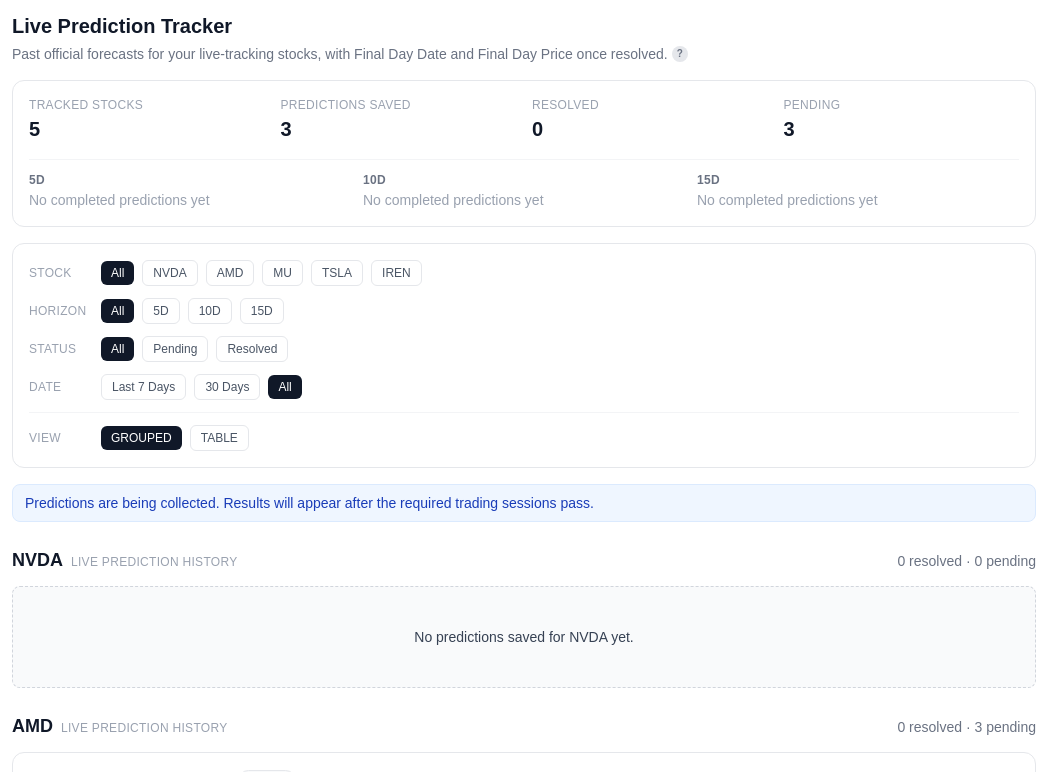
Test: PredictionTrackerPage › tells the user when filters match nothing
Click the button "Resolved": (252, 349) [216,336,288,362]
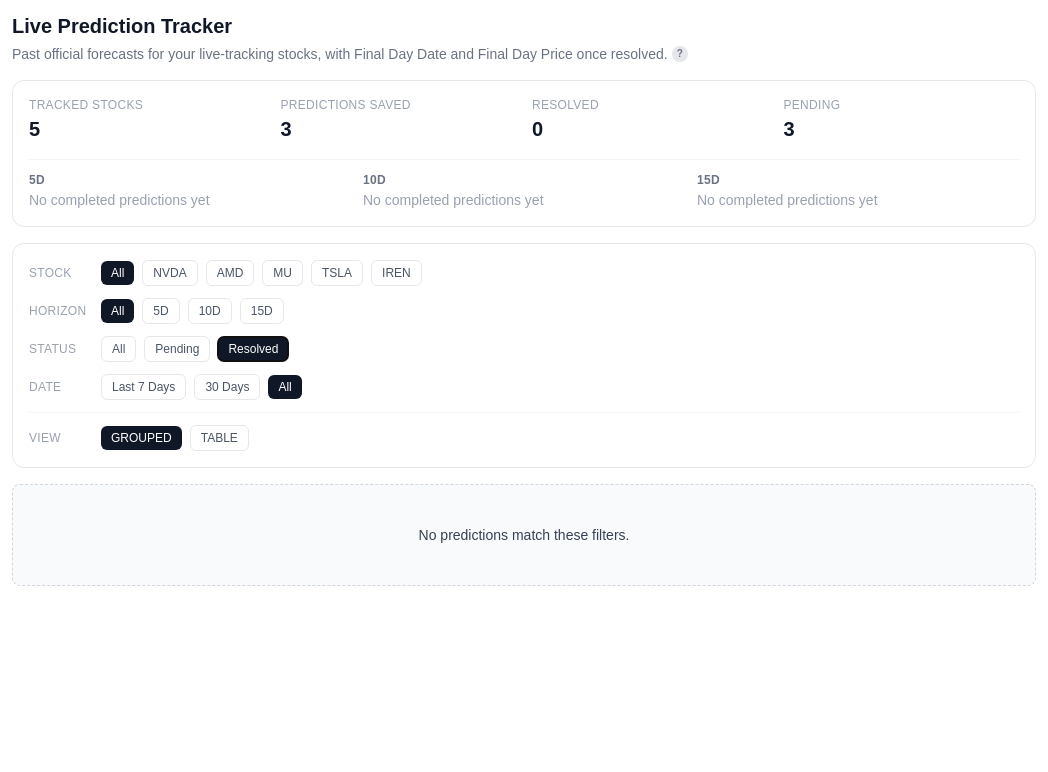
Expected: the element with test id "empty-state" reads "No predictions match these filters.", [419,527,630,543]
